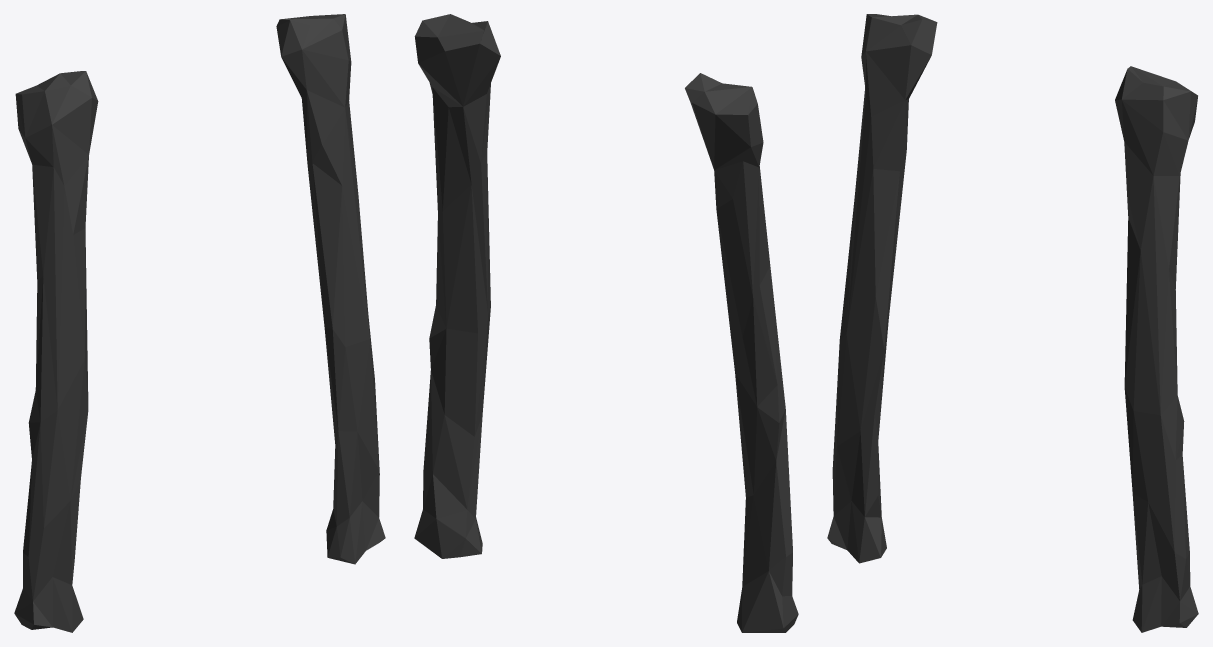
Rendered from Radius.glb.
3 views of the same model, side by side, from view 1: azimuth 30°, elevation 25°; view 2: azimuth 150°, elevation 25°; view 3: azimuth 330°, elevation 25° (orthographic). The views are drawn at different scales.
Visible parts, largest first — view 1: Radius; view 2: Radius; view 3: Radius.
Part boxes in pixels (left/top/right/bottom): Radius: left=14, top=14, right=385, bottom=632; Radius: left=414, top=14, right=798, bottom=632; Radius: left=827, top=14, right=1198, bottom=632.
Bounding box in the file's own units: 0.00413 × 0.00592 × 0.00085.
Materials: 1 (1 with a texture image).
